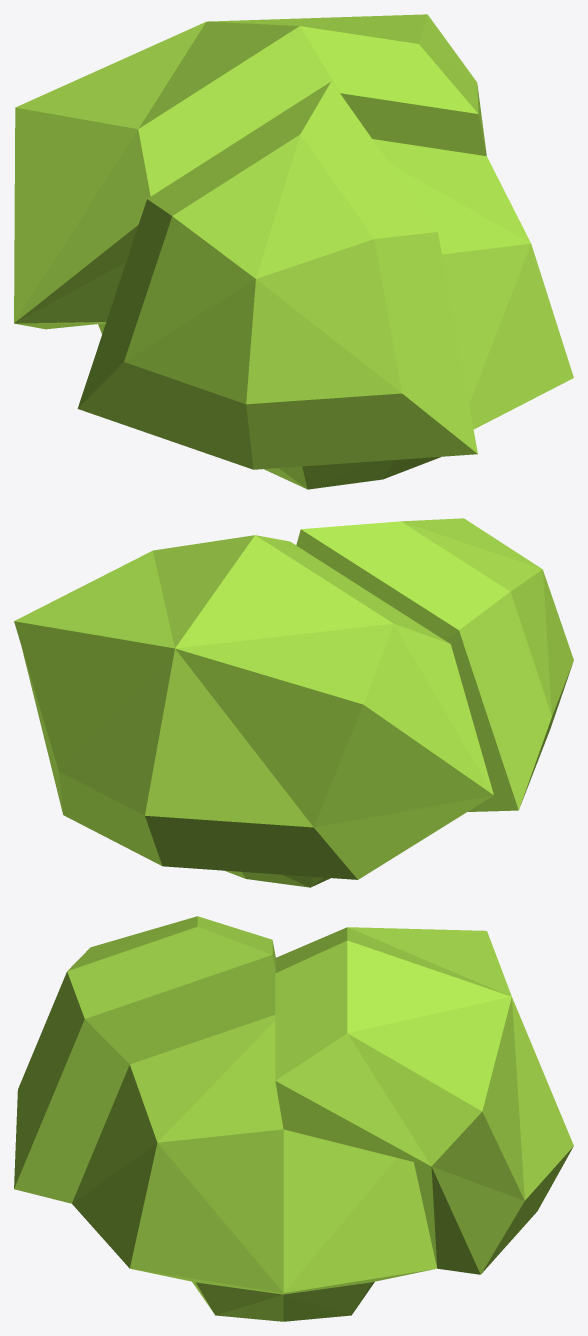
The model's file is Simple_Bush.fbx.
3 views of the same model, one above another, from view 1: azimuth 30°, elevation 25°; view 2: azimuth 150°, elevation 25°; view 3: azimuth 270°, elevation 25° (orthographic). The views are drawn at different scales.
Parts seen in each view (by area): view 1: Cube.001; view 2: Cube.001; view 3: Cube.001.
Part boxes in pixels (bbox=[...]): Cube.001: bbox=[14, 14, 573, 489]; Cube.001: bbox=[14, 518, 573, 887]; Cube.001: bbox=[14, 916, 573, 1321].
Size of the model in its own units: 56.68 by 38.67 by 52.29.
